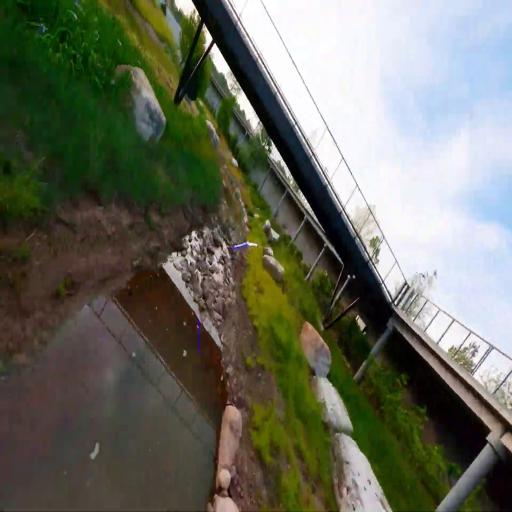uav: (228, 233, 262, 257)
